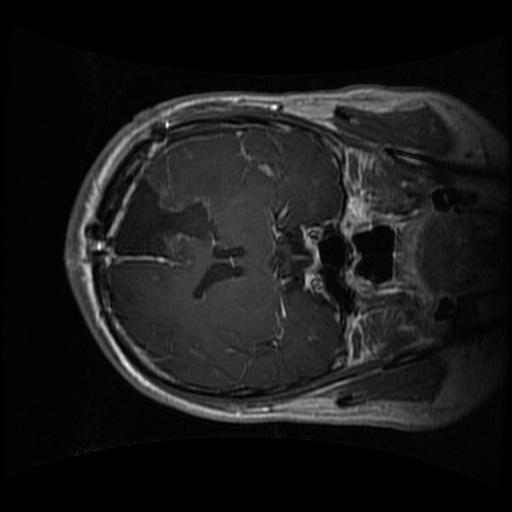glioma: (102, 167, 221, 267)
